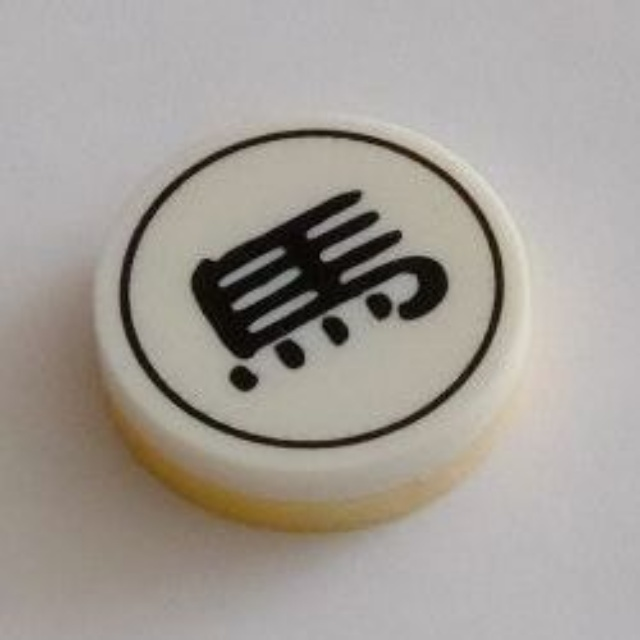black_ma: (82, 112, 524, 540)
